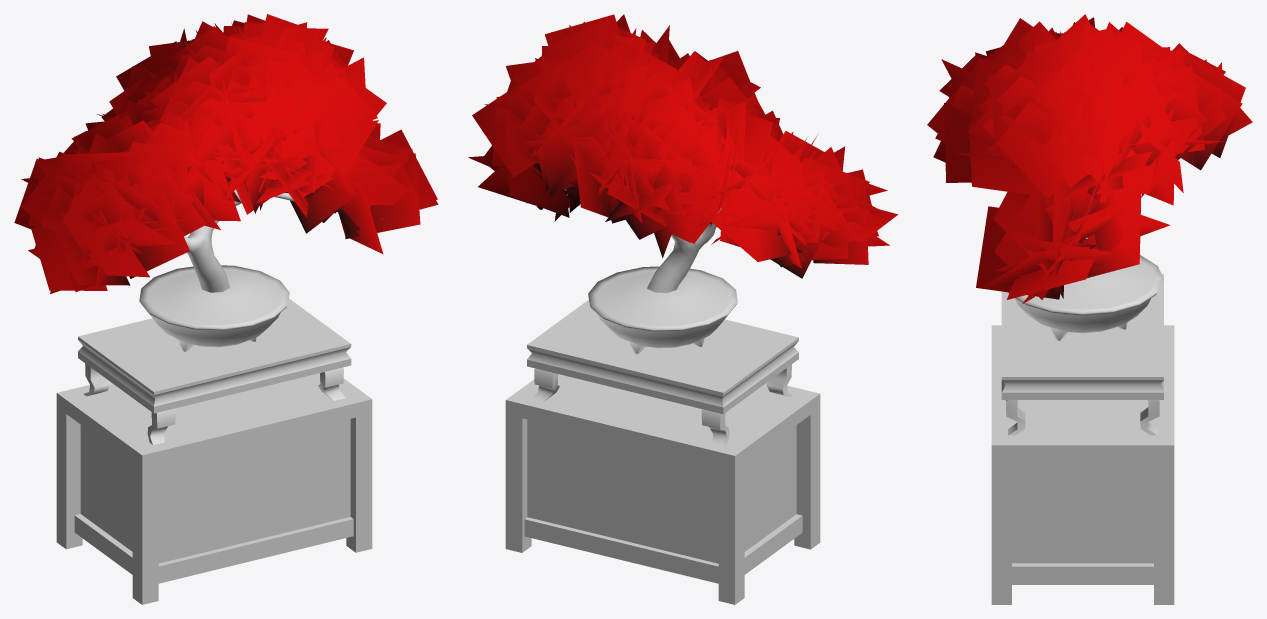
File: SM_Bonsai.fbx
3 renders of one model, left to right at view 1: azimuth 30°, elevation 25°; view 2: azimuth 150°, elevation 25°; view 3: azimuth 270°, elevation 25°, orthographic. The views are drawn at different scales.
Visible parts, largest first — view 1: Bonsai Tables, Bonsai Leaves, Bonsai Pot_low, Bonsai Trunk; view 2: Bonsai Tables, Bonsai Leaves, Bonsai Pot_low, Bonsai Trunk; view 3: Bonsai Leaves, Bonsai Tables, Bonsai Pot_low.
Part boxes in pixels (x1,y1,x2,y2): Bonsai Tables: [56, 298, 372, 604]; Bonsai Leaves: [14, 14, 438, 293]; Bonsai Pot_low: [139, 265, 289, 351]; Bonsai Trunk: [184, 189, 294, 292]; Bonsai Tables: [505, 300, 820, 604]; Bonsai Leaves: [468, 14, 898, 278]; Bonsai Pot_low: [588, 266, 737, 354]; Bonsai Trunk: [565, 189, 721, 292]; Bonsai Leaves: [927, 14, 1252, 303]; Bonsai Tables: [991, 274, 1174, 604]; Bonsai Pot_low: [1008, 255, 1163, 340].
Bounding box in the file's own units: 1.19 × 1.5 × 0.8034.
